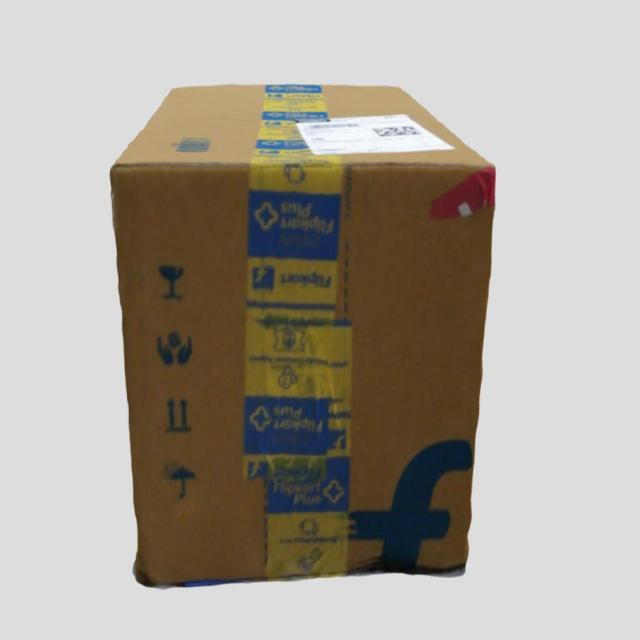box: (110, 82, 495, 585)
